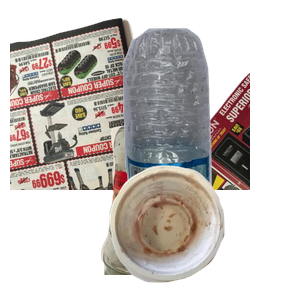glass: (98, 120, 286, 300)
paper: (10, 15, 250, 195)
plastic: (111, 26, 300, 206)
trash: (107, 163, 300, 300)
